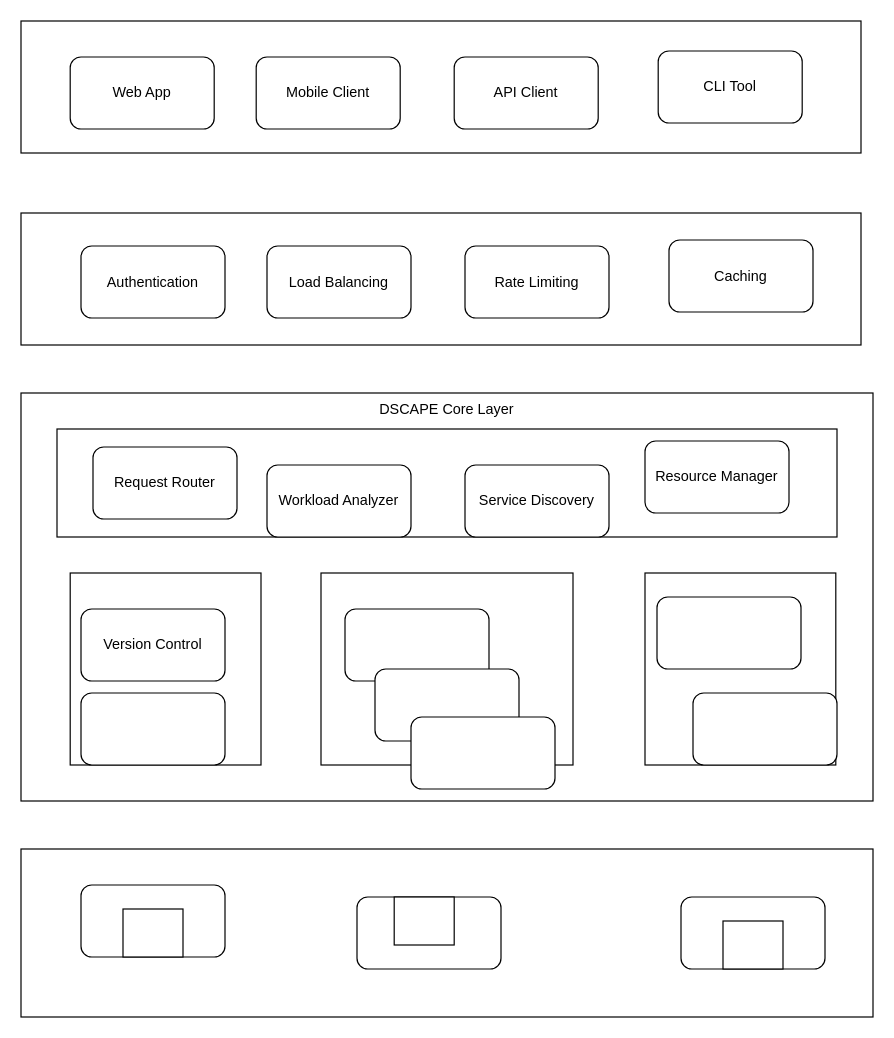
The diagram is 894 pixels wide and 1038 high, and some of its shapes have lost their labels. The box of each missing label's shape, as (x1, y1, x2, y2) in pixels:
API Gateway Layer: (20, 212, 861, 345)
Client Layer: (20, 20, 861, 153)
Consistency Manager: (69, 572, 261, 765)
Orchestration Engine: (56, 428, 837, 537)
Partition Manager: (644, 572, 836, 765)
Query Optimizer: (320, 572, 573, 765)
